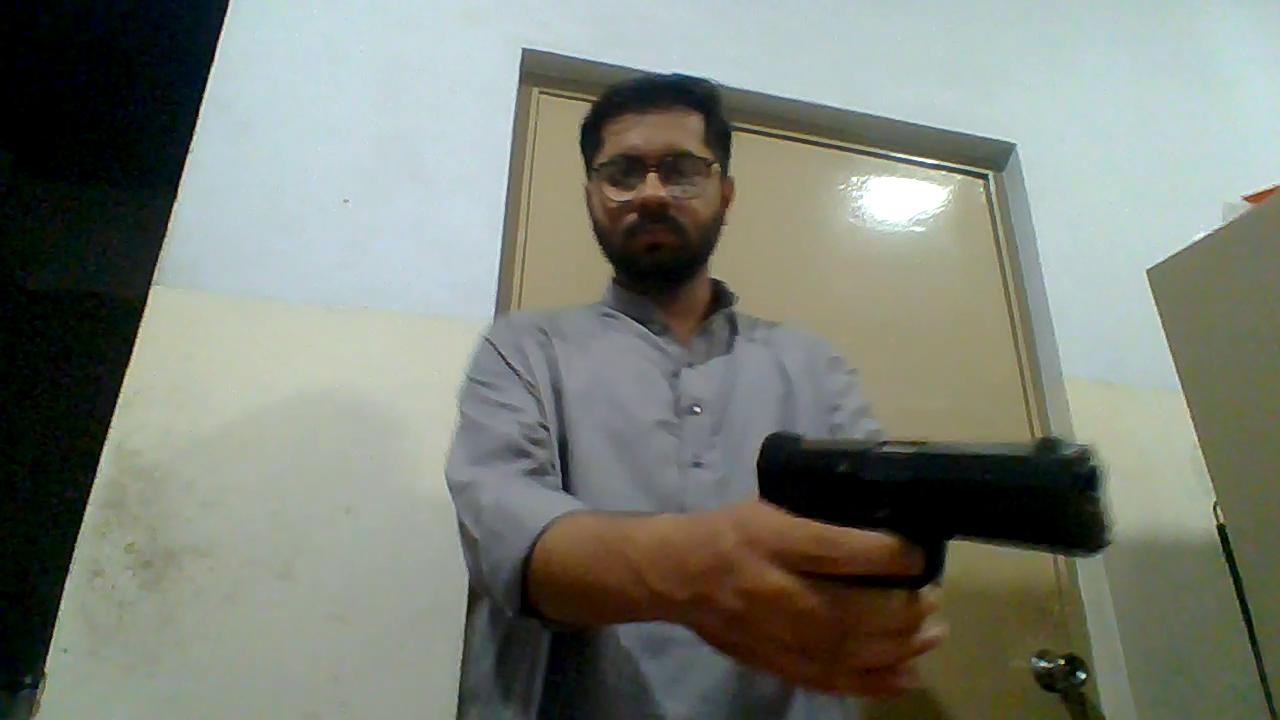criminal: (444, 72, 1116, 720)
weapon: (754, 429, 1114, 592)
